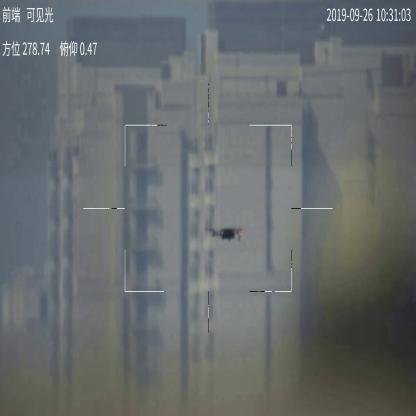uav: (206, 226, 246, 244)
